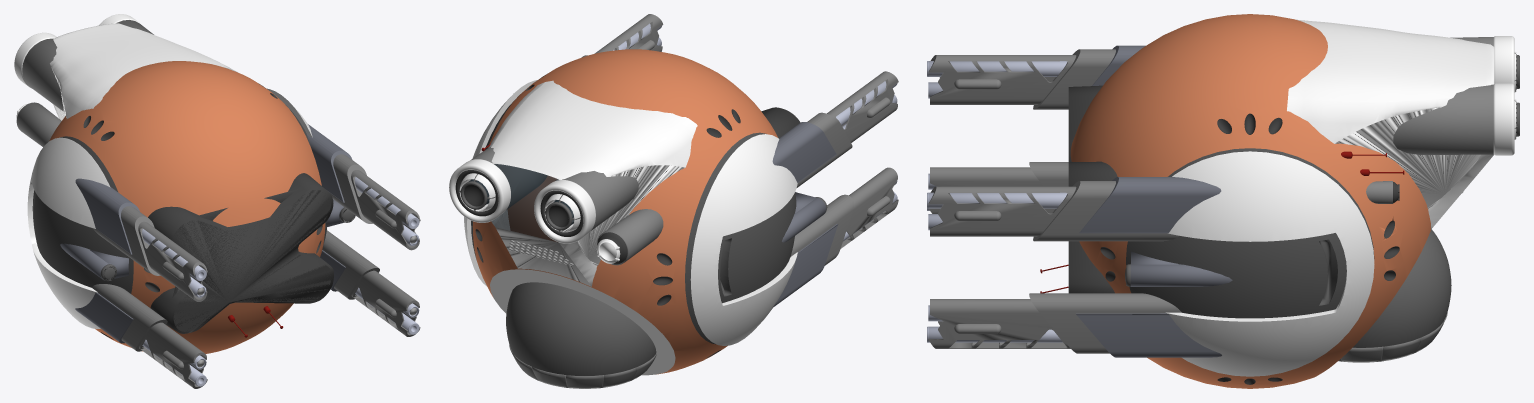
The model's file is Drone166_merged_2013.fbx.
3 views of the same model, side by side, from view 1: azimuth 30°, elevation 25°; view 2: azimuth 150°, elevation 25°; view 3: azimuth 270°, elevation 25° (orthographic). The views are drawn at different scales.
Visible parts, largest first — view 1: Mesh (2), Mesh (4), Mesh (3); view 2: Mesh (2), Mesh (4), Mesh (3); view 3: Mesh (2), Mesh (4), Mesh (3).
Part boxes in pixels (x1,y1,x2,y2): Mesh (2): [14, 14, 420, 388]; Mesh (4): [27, 88, 327, 328]; Mesh (3): [32, 105, 326, 293]; Mesh (2): [449, 14, 898, 388]; Mesh (4): [464, 80, 797, 345]; Mesh (3): [471, 96, 796, 344]; Mesh (2): [927, 14, 1519, 388]; Mesh (4): [1165, 151, 1374, 376]; Mesh (3): [1126, 148, 1374, 318].
Size of the model in its own units: 197 by 195 by 308.
